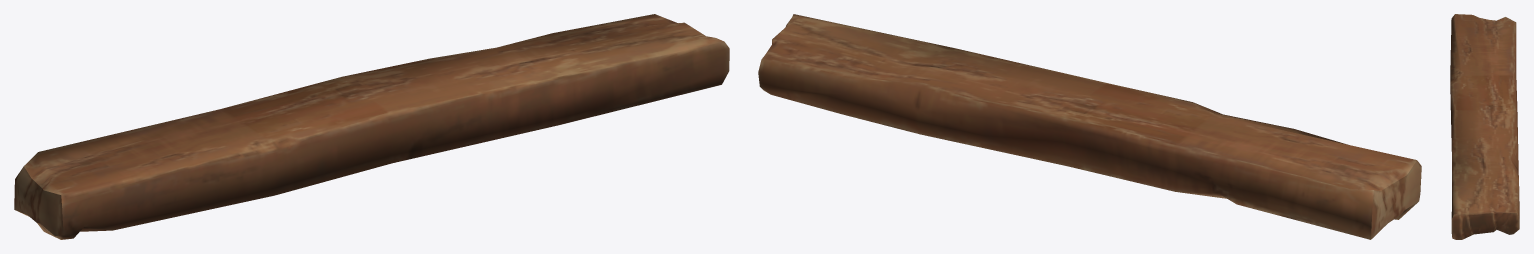
The model's file is SM_Farm_Plank_Damaged_01.fbx.
3 renders of one model, left to right at view 1: azimuth 30°, elevation 25°; view 2: azimuth 150°, elevation 25°; view 3: azimuth 270°, elevation 25°, orthographic. The views are drawn at different scales.
Parts seen in each view (by area): view 1: SM_Farm_Plank_Damaged_01_LOD0; view 2: SM_Farm_Plank_Damaged_01_LOD0; view 3: SM_Farm_Plank_Damaged_01_LOD0.
Boxes of the visible parts, box(x1,y1,x2,y2) form: SM_Farm_Plank_Damaged_01_LOD0: box(14, 14, 729, 239); SM_Farm_Plank_Damaged_01_LOD0: box(758, 14, 1421, 239); SM_Farm_Plank_Damaged_01_LOD0: box(1450, 14, 1519, 239).
Bounding box in the file's own units: 172 × 13 × 25.5.
